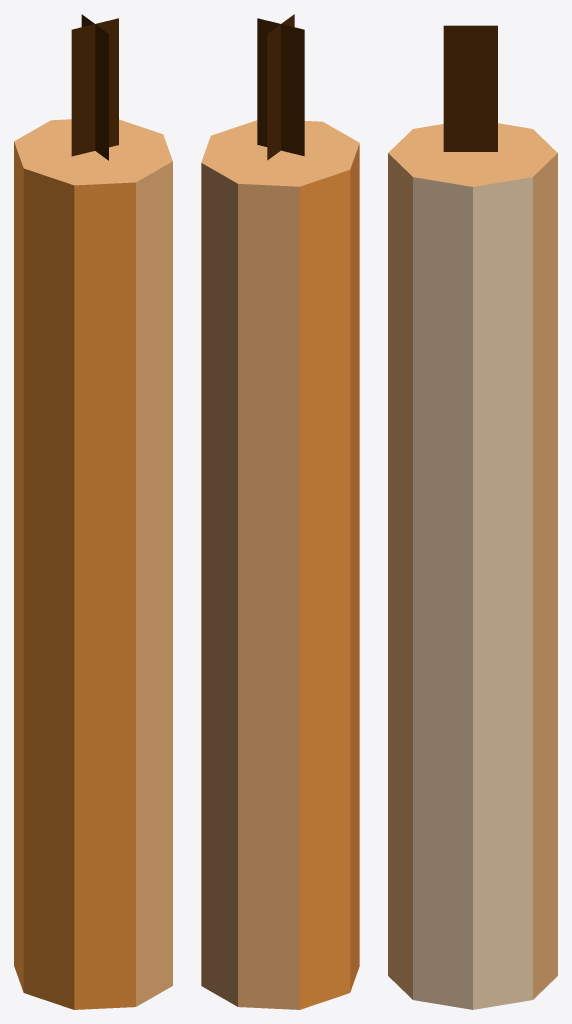
File: candle_336x01.gltf
3 views of the same model, side by side, from view 1: azimuth 30°, elevation 25°; view 2: azimuth 150°, elevation 25°; view 3: azimuth 270°, elevation 25° (orthographic).
Visible parts, largest first — view 1: candle_336x01; view 2: candle_336x01; view 3: candle_336x01.
Part boxes in pixels (<box>): candle_336x01: <box>14,14,172,1009</box>; candle_336x01: <box>201,14,359,1009</box>; candle_336x01: <box>388,25,557,1009</box>.
Bounding box in the file's own units: 0.1409 × 0.919 × 0.1487.
Materials: 1 (1 with a texture image).
